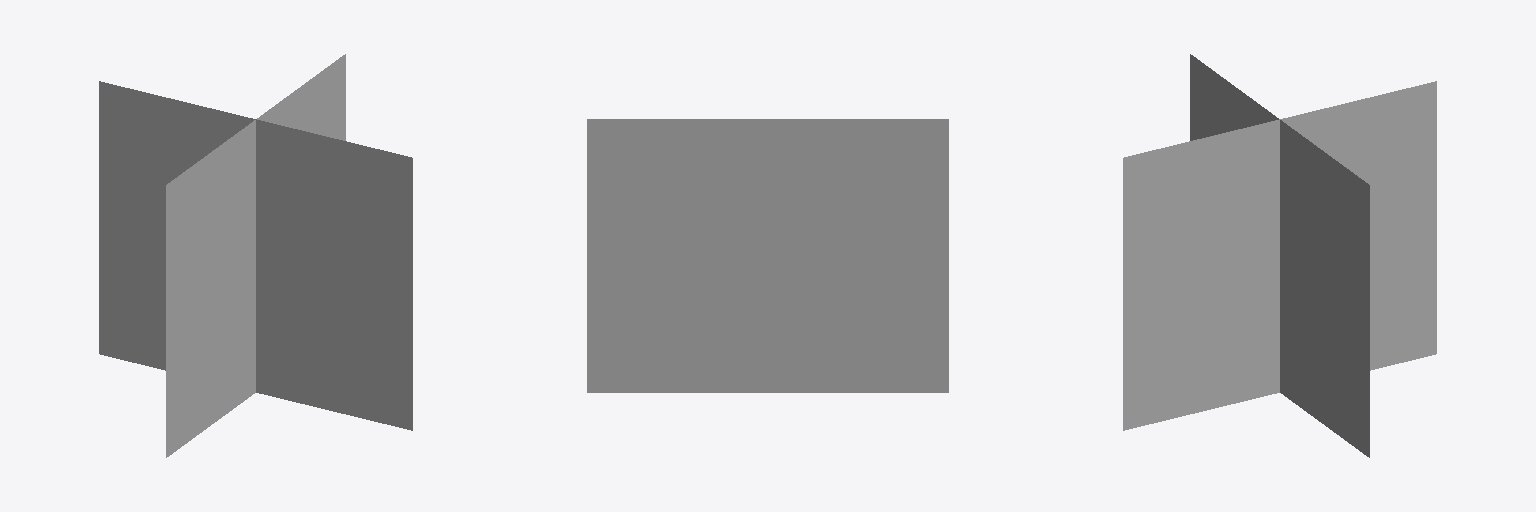
Rendered from plam_stem_stage0.obj.
The picture shows the model from 3 angles: view 1: azimuth 30°, elevation 25°; view 2: azimuth 150°, elevation 25°; view 3: azimuth 270°, elevation 25°; orthographic projection.
Parts seen in each view (by area): view 1: cube_1, cube_0; view 2: cube_0; view 3: cube_1, cube_0.
Boxes of the visible parts, box(x1,y1,x2,y2) form: cube_1: box(99, 81, 412, 430); cube_0: box(166, 54, 345, 457); cube_0: box(587, 119, 948, 392); cube_1: box(1123, 81, 1436, 430); cube_0: box(1190, 54, 1369, 457).
Size of the model in its own units: 0.3248 by 0.3125 by 0.3248.